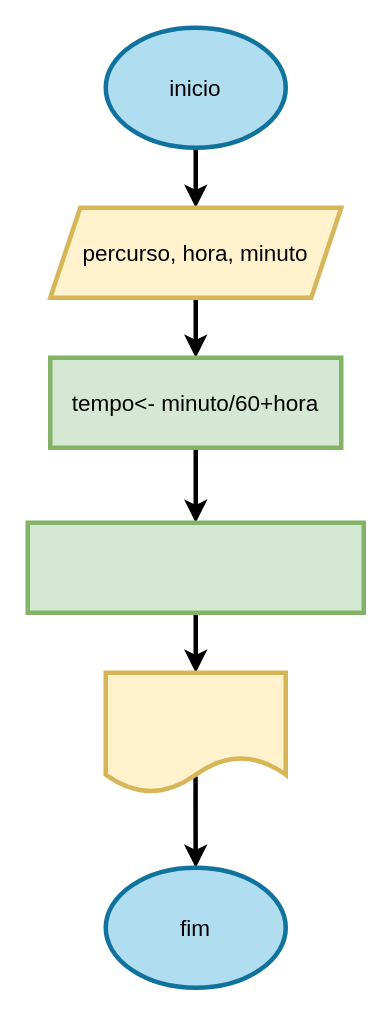
The diagram is 392 pixels wide and 1016 high, and some of its shapes have lost their labels. The shapes that lost their labels are listed below. From the top down, each one's centre as x and y in pixels, then its label:
point 195,567: velocidade<- percurso/tempo
point 195,732: velocidade
